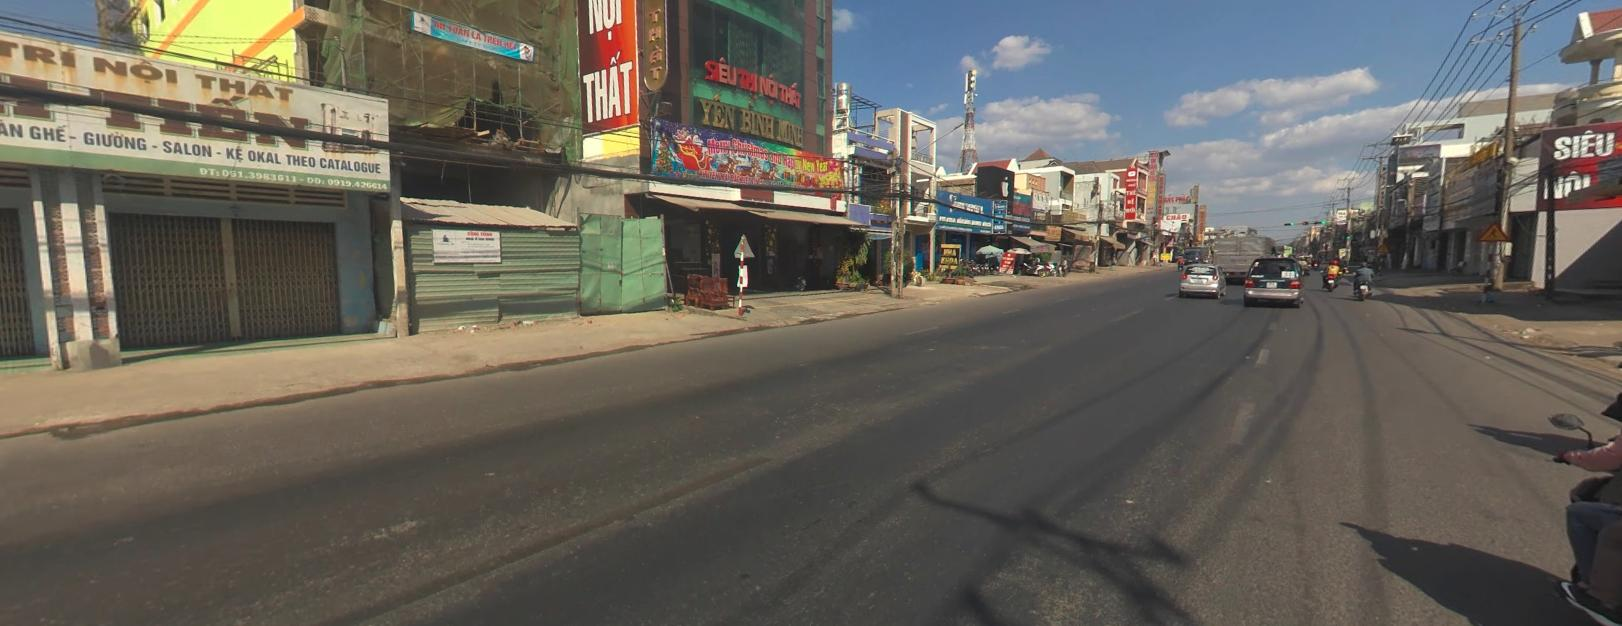Nguy hiem: (1477, 220, 1509, 239), (1376, 242, 1389, 251)
